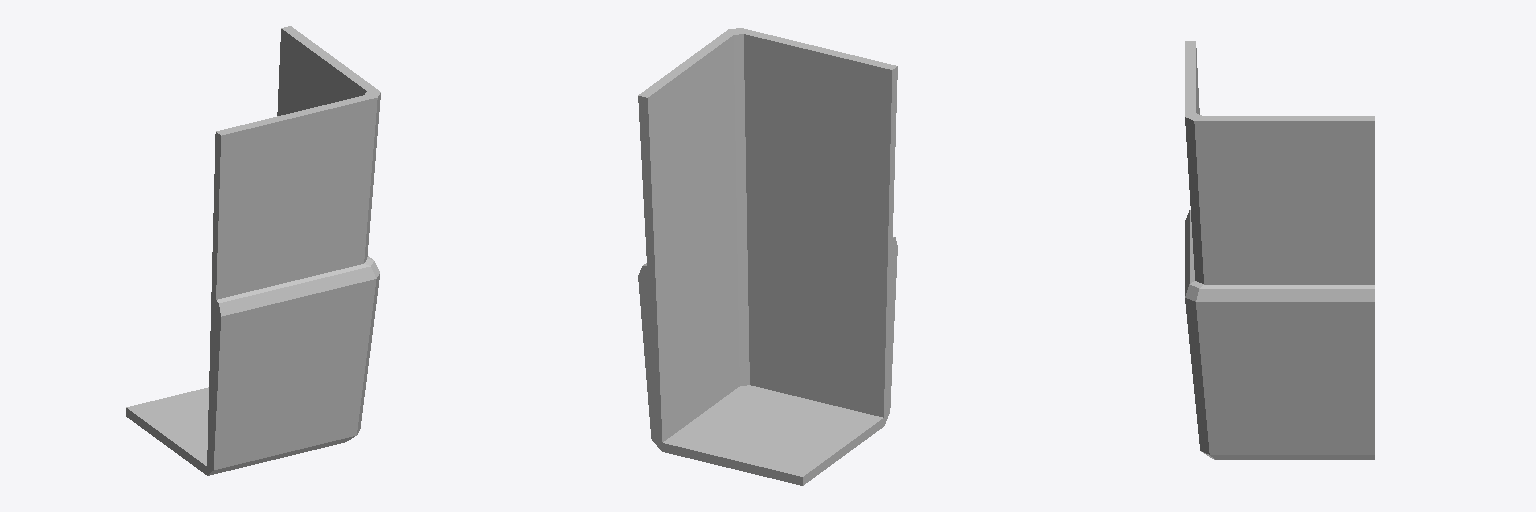
File: base_building_bottom_right_corner_tile.obj
The picture shows the model from 3 angles: view 1: azimuth 30°, elevation 25°; view 2: azimuth 150°, elevation 25°; view 3: azimuth 270°, elevation 25°; orthographic projection.
Visible parts, largest first — view 1: bottom_left_corner_tile.001_Cube.017; view 2: bottom_left_corner_tile.001_Cube.017; view 3: bottom_left_corner_tile.001_Cube.017.
Part boxes in pixels (bbox=[...]): bottom_left_corner_tile.001_Cube.017: bbox=[126, 26, 380, 475]; bottom_left_corner_tile.001_Cube.017: bbox=[638, 28, 897, 485]; bottom_left_corner_tile.001_Cube.017: bbox=[1185, 41, 1374, 459].
Size of the model in its own units: 1.97 by 4 by 1.97.